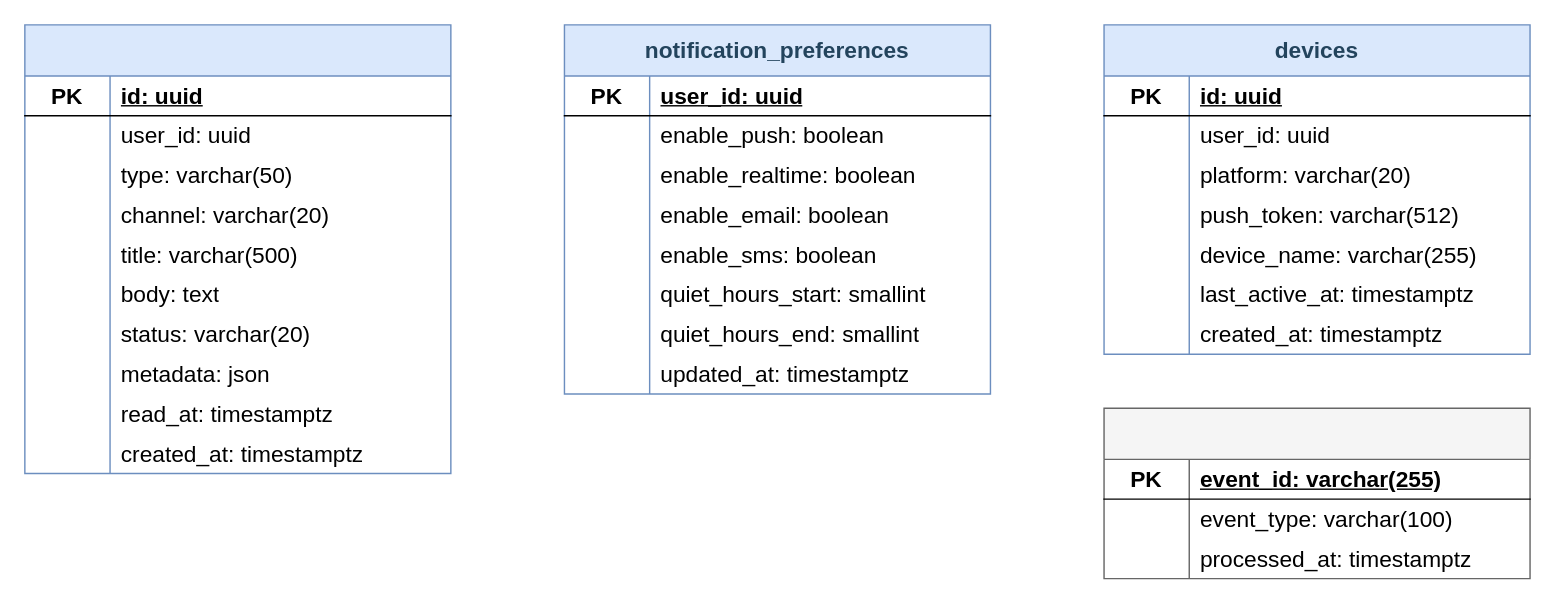
Some shapes in this 1555 by 604 pixel diagram are drawn without their labels. The shapes that lost their labels are listed below. From the top down, each one's box as (x1, y1, x2, y2) in pixels, then its label:
(23, 23, 451, 474): notifications
(1103, 407, 1530, 579): processed_events
